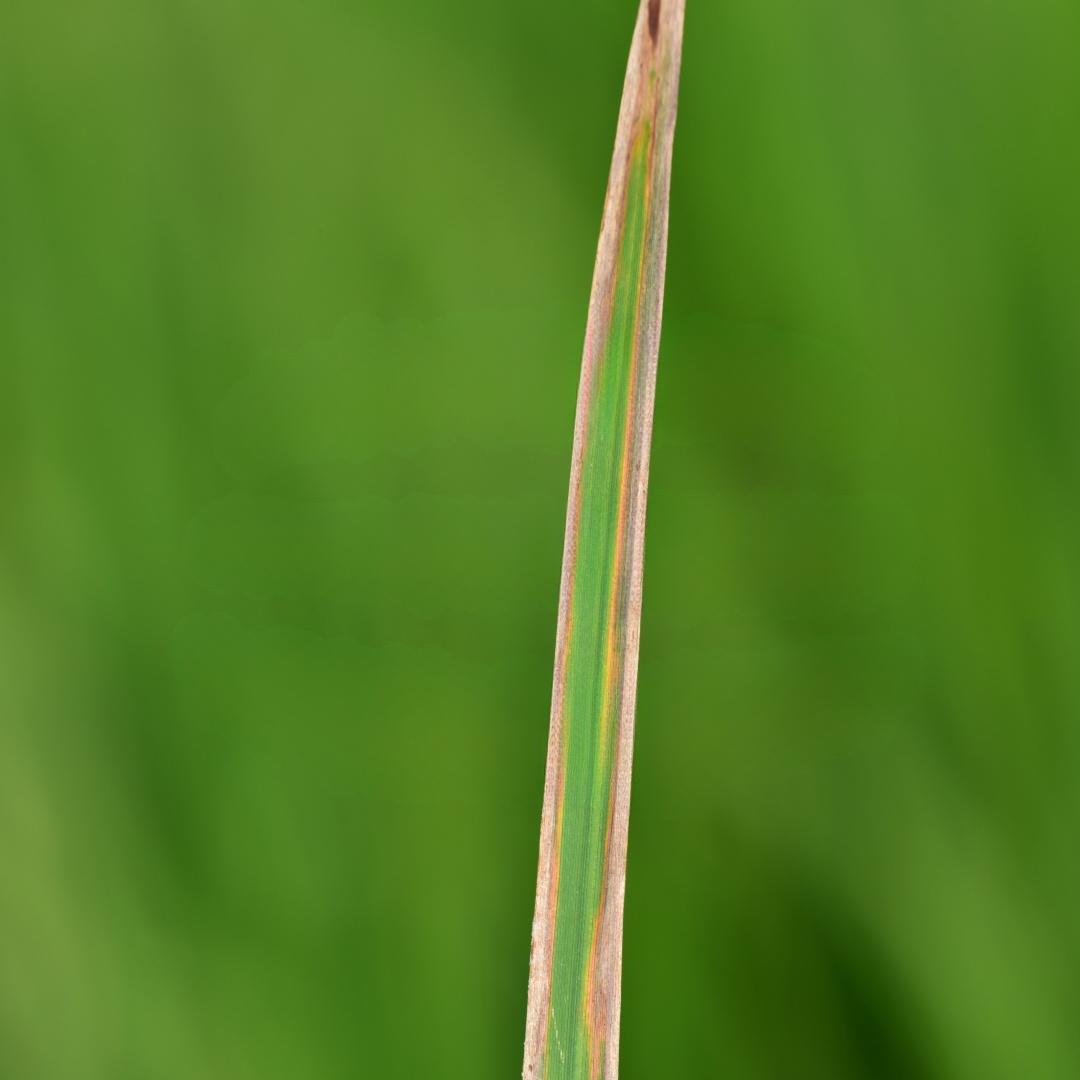BLB: (524, 1, 683, 1078)
LEAF: (522, 0, 684, 1079)
